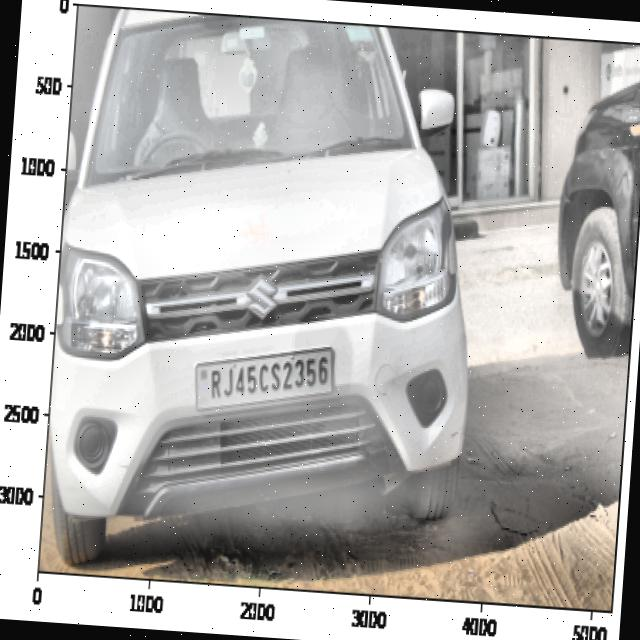license_plate: (206, 342, 332, 408)
